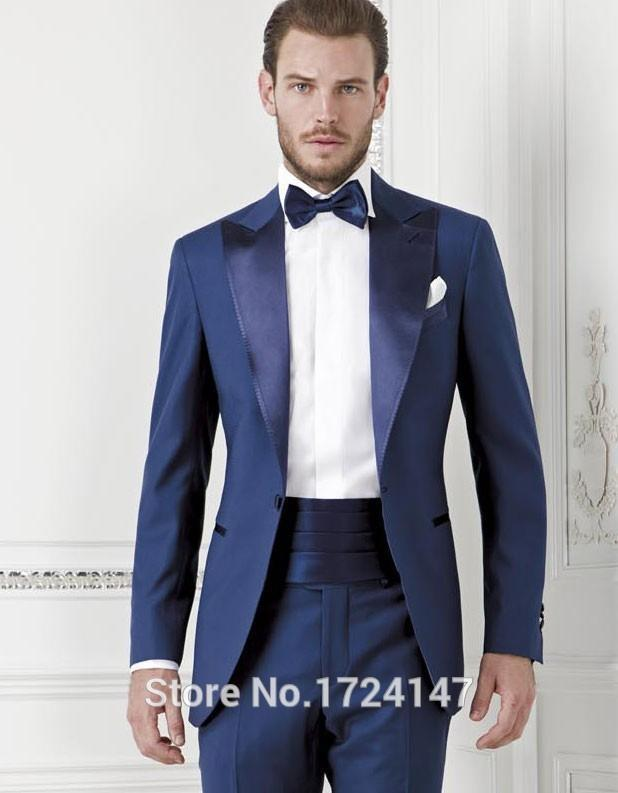F_M_suit jacket: (128, 161, 566, 684)
F_shirt: (274, 155, 386, 500)
F_tie: (283, 179, 372, 227)
